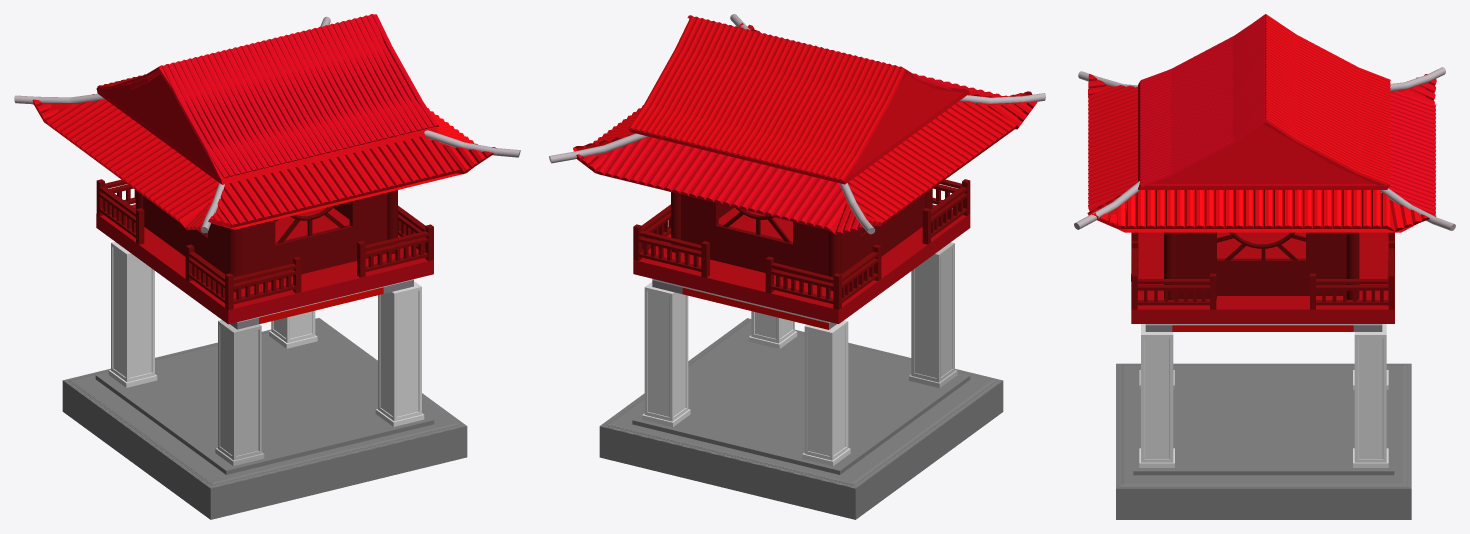
Rendered from Khue Van Cac.fbx.
3 renders of one model, left to right at view 1: azimuth 30°, elevation 25°; view 2: azimuth 150°, elevation 25°; view 3: azimuth 270°, elevation 25°, orthographic.
Parts seen in each view (by area): view 1: Cube, Plane.009, Plane.005, Plane.007, Plane.002, Cube.006, Cube.008, Cube.061, Cube.004, Cube.002, Cube.001, Cylinder.019 (+6 smaller); view 2: Cube, Plane.008, Plane.003, Plane.007, Plane.002, Cube.006, Cube.008, Cube.061, Cube.001, Cube.003, Cube.004, Cylinder.019 (+5 smaller); view 3: Cube, Plane.009, Plane.008, Plane.004, Cube.006, Plane.007, Cube.008, Plane.005, Plane.003, Cube.061, Cube.003, Cube.002 (+5 smaller).
Boxes of the visible parts, x1,y1,x2,y2 form: Cube: (62, 318, 467, 519); Plane.009: (162, 14, 438, 178); Plane.005: (208, 135, 493, 227); Plane.007: (96, 15, 437, 184); Plane.002: (32, 99, 218, 230); Cube.006: (96, 204, 433, 324); Cube.008: (143, 193, 387, 288); Cube.061: (96, 179, 433, 309); Cube.004: (215, 320, 264, 465); Cube.002: (375, 281, 424, 426); Cube.001: (108, 242, 157, 387); Cylinder.019: (14, 16, 520, 233); Cube: (599, 318, 1003, 519); Plane.008: (628, 16, 904, 180); Plane.003: (576, 137, 864, 235); Plane.007: (628, 18, 969, 184); Plane.002: (848, 101, 1037, 226); Cube.006: (633, 204, 970, 323); Cube.008: (681, 194, 925, 287); Cube.061: (633, 179, 970, 309); Cube.001: (802, 320, 850, 466); Cube.003: (642, 282, 690, 427); Cube.004: (909, 242, 957, 388); Cylinder.019: (549, 14, 1045, 234); Cube: (1116, 363, 1411, 519); Plane.009: (1140, 15, 1265, 187); Plane.008: (1265, 14, 1390, 186); Plane.004: (1091, 190, 1429, 231); Cube.006: (1131, 232, 1394, 323); Plane.007: (1138, 14, 1389, 189); Cube.008: (1176, 232, 1346, 299); Plane.005: (1087, 74, 1137, 215); Plane.003: (1388, 79, 1436, 216); Cube.061: (1131, 232, 1394, 309); Cube.003: (1353, 324, 1388, 467); Cube.002: (1139, 324, 1174, 467).
Bounding box in the file's own units: 3427 × 3956 × 3482.
